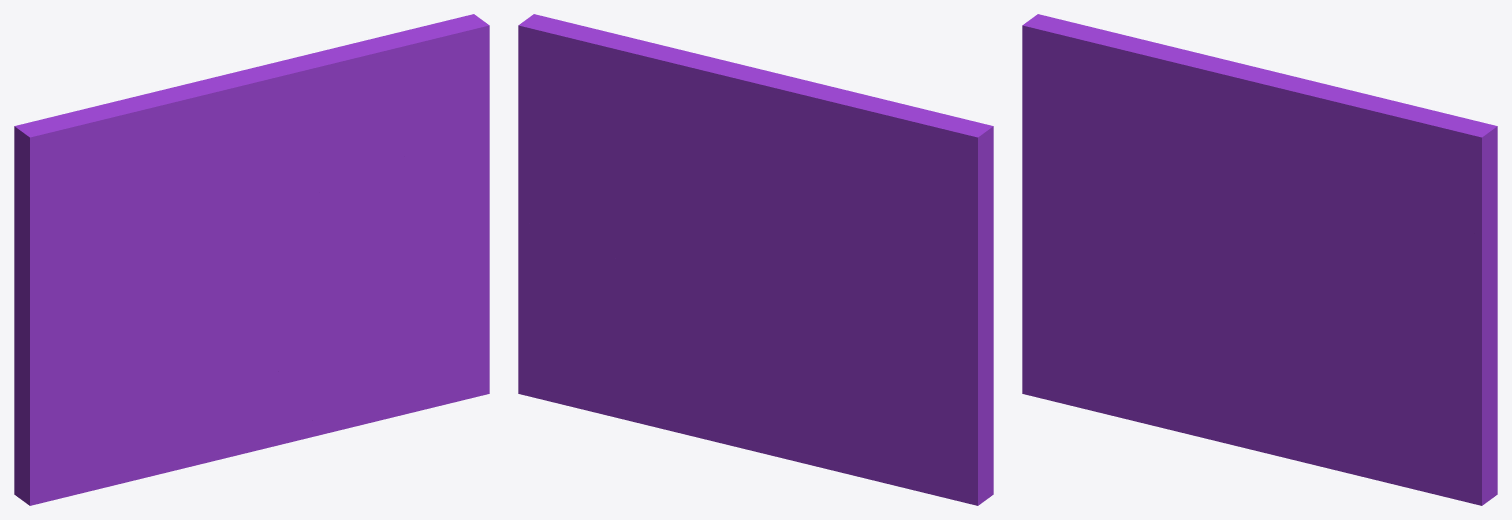
Rendered from Barrier_192_chunks.fbx.
3 renders of one model, left to right at view 1: azimuth 30°, elevation 25°; view 2: azimuth 150°, elevation 25°; view 3: azimuth 330°, elevation 25°, orthographic.
Parts seen in each view (by area): view 1: Barrier_192_1, Barrier_192_0, Barrier_192_2, Barrier_192_6, Barrier_192_4, Barrier_192_3, Barrier_192_5; view 2: Barrier_192_1, Barrier_192_2, Barrier_192_6, Barrier_192_4, Barrier_192_3, Barrier_192_0, Barrier_192_5; view 3: Barrier_192_1, Barrier_192_0, Barrier_192_2, Barrier_192_6, Barrier_192_3, Barrier_192_4, Barrier_192_5.
Part boxes in pixels (x1,y1,x2,y2): Barrier_192_1: (14,79,260,496); Barrier_192_0: (251,121,489,347); Barrier_192_2: (208,14,489,216); Barrier_192_6: (277,298,489,434); Barrier_192_4: (14,386,218,505); Barrier_192_3: (142,278,319,390); Barrier_192_5: (164,370,322,473); Barrier_192_1: (756,75,993,487); Barrier_192_2: (518,14,784,276); Barrier_192_6: (518,274,740,440); Barrier_192_4: (732,361,993,505); Barrier_192_3: (685,269,848,366); Barrier_192_0: (518,218,657,317); Barrier_192_5: (711,412,759,452); Barrier_192_1: (1022,14,1253,384); Barrier_192_0: (1244,217,1497,459); Barrier_192_2: (1231,61,1497,318); Barrier_192_6: (1269,328,1497,505); Barrier_192_3: (1134,274,1312,378); Barrier_192_4: (1022,329,1211,426); Barrier_192_5: (1156,370,1314,464).
Size of the model in its own units: 376 by 288 by 22.1.
